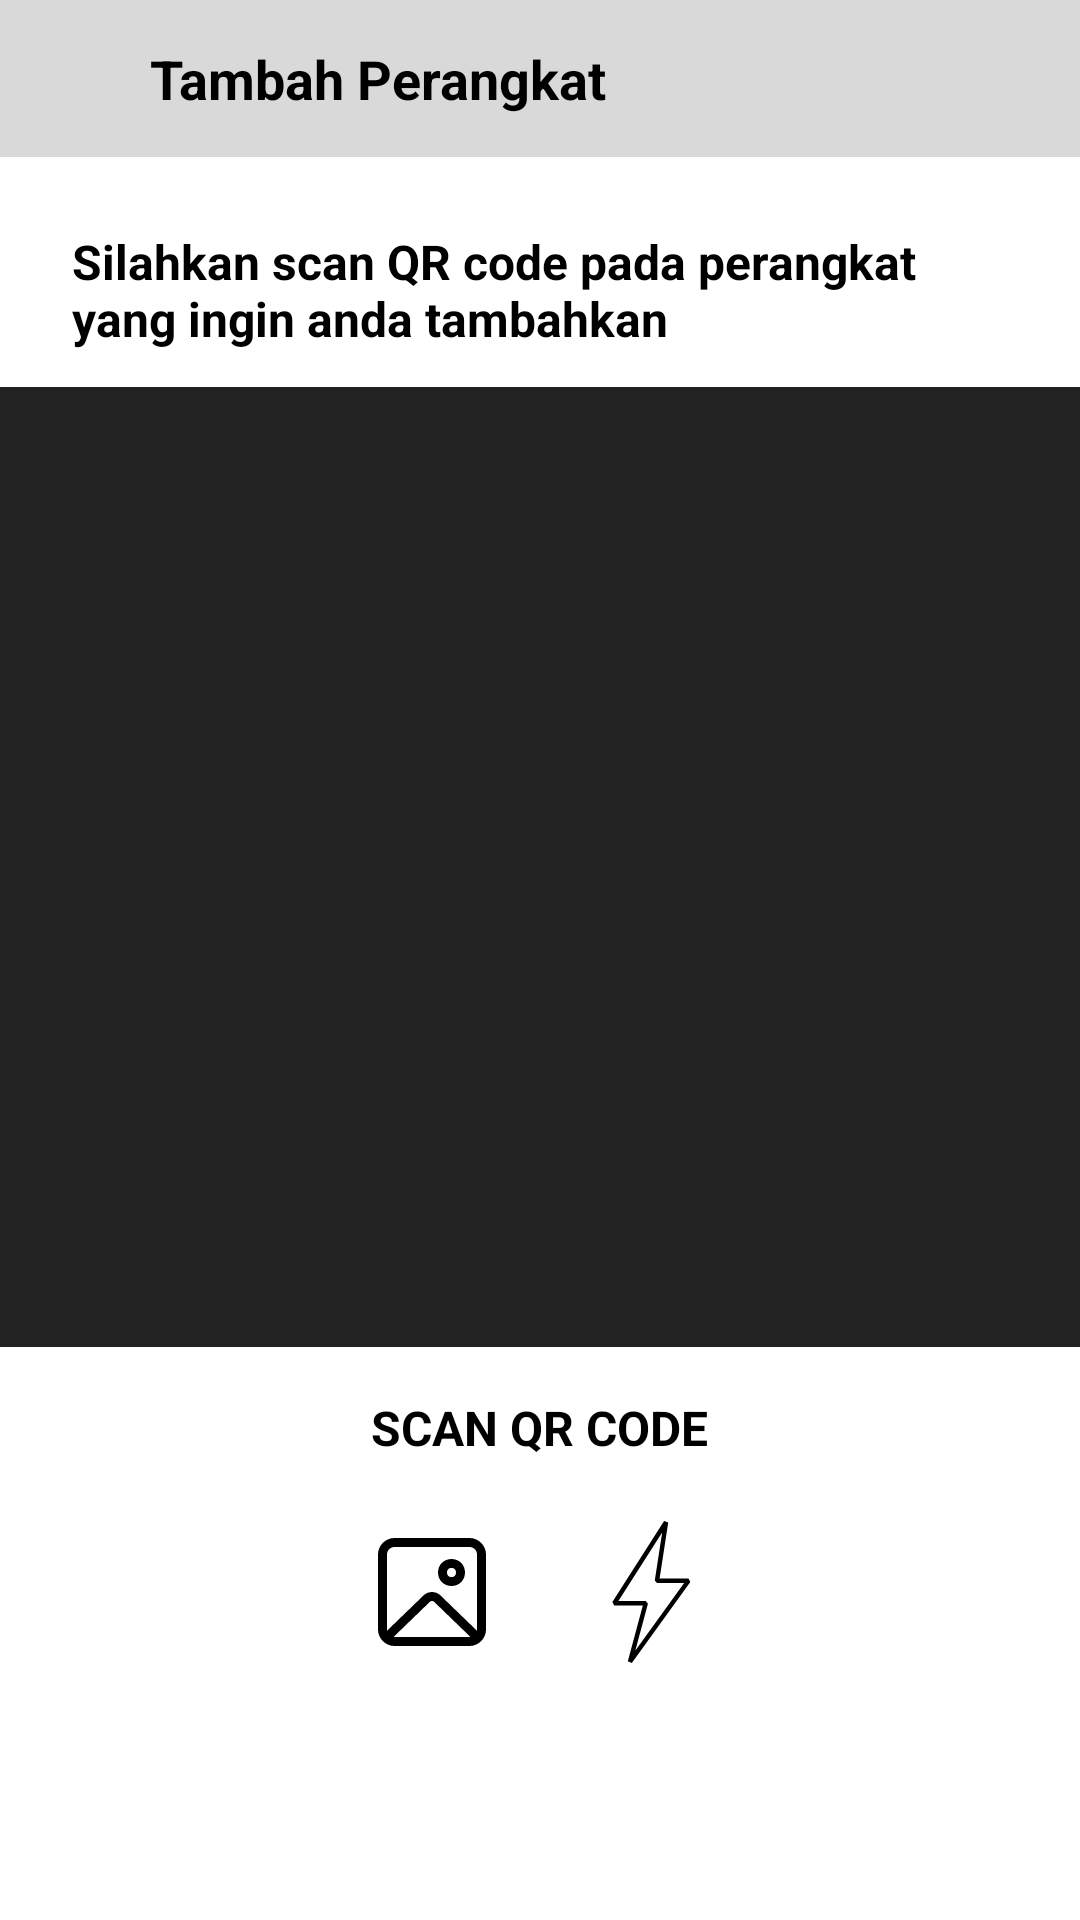

Where icons sit on this 1080×1920 app screen, as (x1, y1, x2, y2):
Flashlight: (612, 1521, 690, 1663)
Gallery: (378, 1538, 486, 1646)
